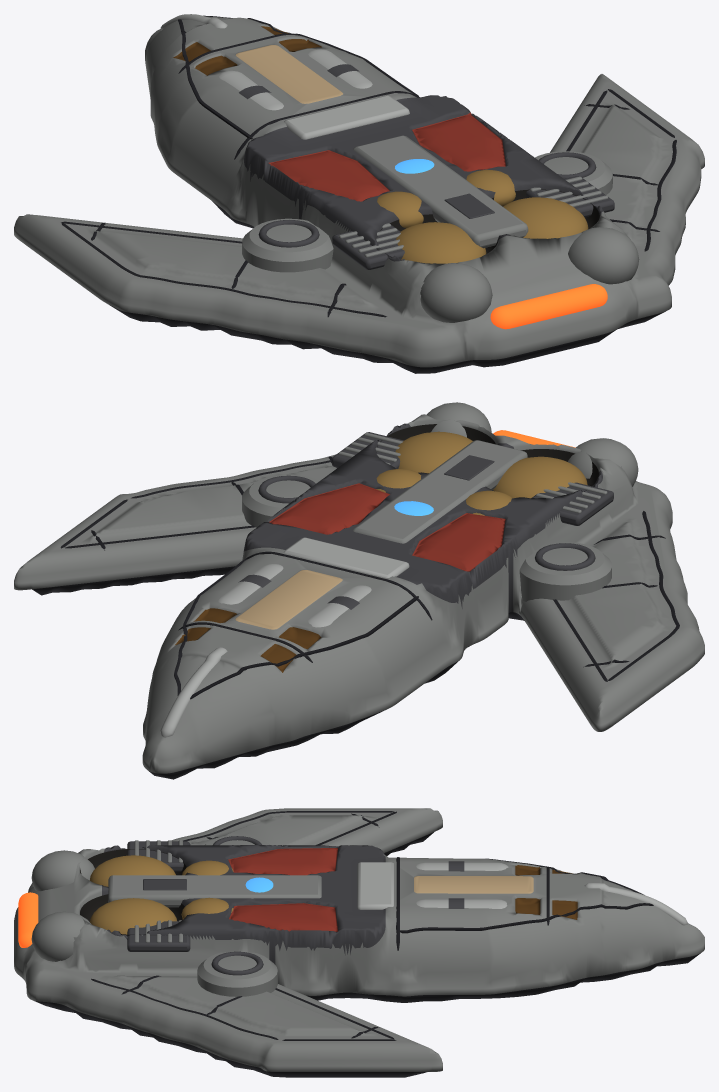
The model's file is store_ship_32.glb.
3 views of the same model, one above another, from view 1: azimuth 30°, elevation 25°; view 2: azimuth 150°, elevation 25°; view 3: azimuth 270°, elevation 25° (orthographic). The views are drawn at different scales.
Parts seen in each view (by area): view 1: hull, bay_column, pod, shoulder, pod.001, lobe, exhaust, chin, lobe.001, shoulder.001, grille, lobe_small (+9 smaller); view 2: hull, bay_column, shoulder, lobe, chin, lobe.001, shoulder.001, pod, pod.001, spine, grille, seam_helmet.001 (+8 smaller); view 3: hull, bay_column, shoulder.001, lobe.001, pod.001, pod, chin, lobe, grille.001, exhaust, seam_helmet, spine (+9 smaller).
Part boxes in pixels (<box>): hull: <box>14,16,704,373</box>; bay_column: <box>353,135,528,248</box>; pod: <box>420,263,492,322</box>; shoulder: <box>242,218,333,272</box>; pod.001: <box>568,227,639,284</box>; lobe: <box>396,222,486,263</box>; exhaust: <box>490,284,607,329</box>; chin: <box>284,95,409,139</box>; lobe.001: <box>503,197,588,238</box>; shoulder.001: <box>535,151,612,194</box>; grille: <box>332,225,404,269</box>; lobe_small: <box>377,191,423,228</box>; hull: <box>14,414,704,779</box>; bay_column: <box>353,440,527,543</box>; shoulder: <box>519,542,611,601</box>; lobe: <box>493,456,587,498</box>; chin: <box>283,537,409,577</box>; lobe.001: <box>395,431,472,473</box>; shoulder.001: <box>242,474,319,527</box>; pod: <box>567,438,638,486</box>; pod.001: <box>426,402,491,437</box>; spine: <box>160,647,227,737</box>; grille: <box>532,482,613,525</box>; seam_helmet.001: <box>190,596,418,699</box>; hull: <box>14,808,704,1077</box>; bay_column: <box>108,875,321,907</box>; shoulder.001: <box>197,952,277,996</box>; lobe.001: <box>90,898,176,934</box>; pod.001: <box>31,911,90,961</box>; pod: <box>31,850,94,891</box>; chin: <box>357,862,393,909</box>; lobe: <box>89,855,175,886</box>; grille.001: <box>127,921,190,951</box>; exhaust: <box>18,892,38,947</box>; seam_helmet: <box>400,903,653,933</box>; spine: <box>584,883,688,925</box>.
Size of the model in its own units: 93 by 14.15 by 110.
